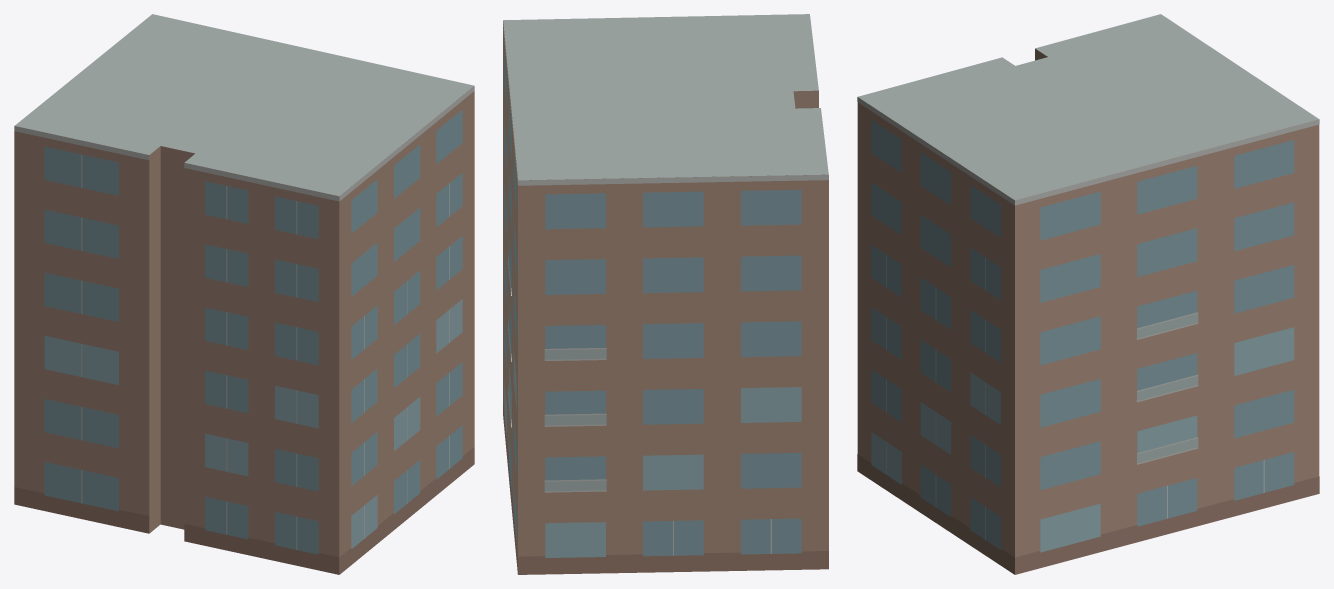
Rendered from survey-upis-32848228.glb.
The picture shows the model from 3 angles, left to right: view 1: azimuth 30°, elevation 25°; view 2: azimuth 150°, elevation 25°; view 3: azimuth 270°, elevation 25°; orthographic projection. The views are drawn at different scales.
Visible parts, largest first — view 1: survey-upis-32848228.tmp; view 2: survey-upis-32848228.tmp; view 3: survey-upis-32848228.tmp.
Part boxes in pixels (x1=…): survey-upis-32848228.tmp: x1=14, y1=14, x2=474, y2=574; survey-upis-32848228.tmp: x1=503, y1=14, x2=828, y2=574; survey-upis-32848228.tmp: x1=857, y1=14, x2=1319, y2=574.
Bounding box in the file's own units: 18.91 × 17.7 × 19.8.
